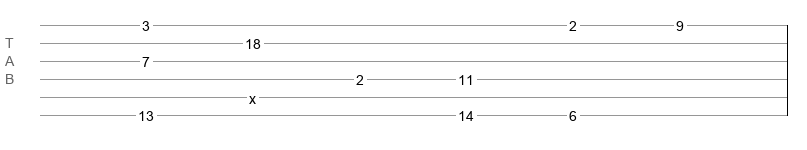11: (458, 72, 474, 82)
13: (138, 108, 154, 118)
14: (458, 108, 474, 118)
18: (245, 36, 261, 46)
2: (356, 72, 364, 82), (569, 18, 577, 28)
3: (142, 18, 150, 28)
6: (569, 108, 577, 118)
7: (142, 54, 150, 64)
9: (676, 18, 684, 28)
x: (249, 91, 256, 99)
